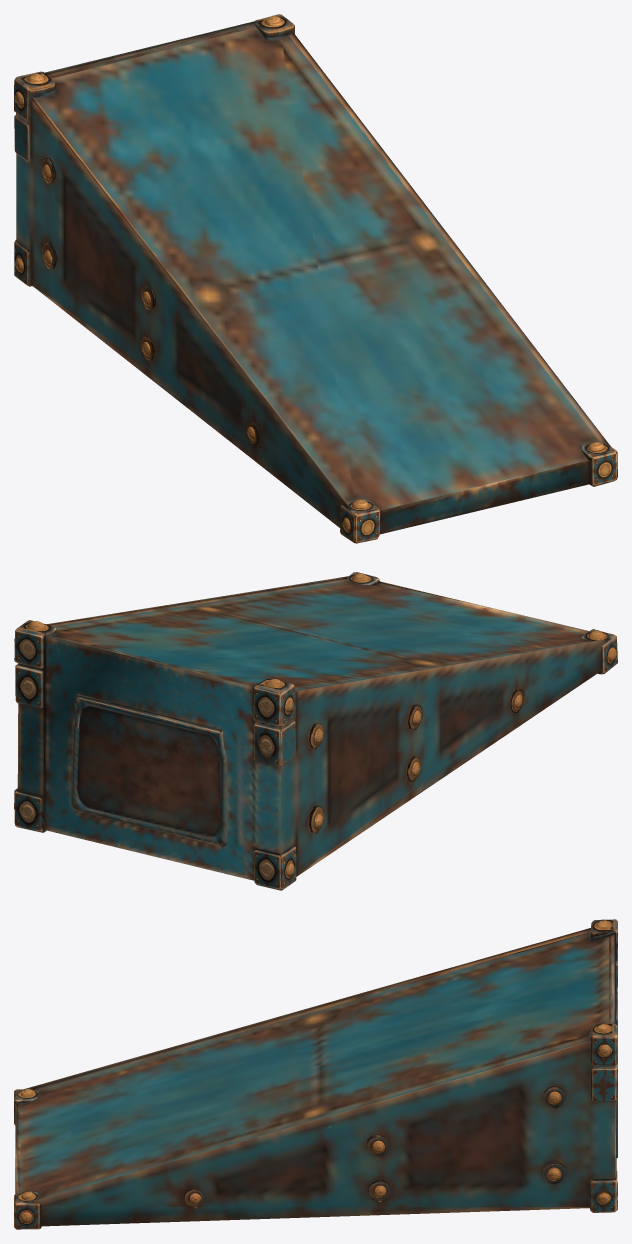
File: metal-wedge.glb
The picture shows the model from 3 angles, top to bottom: view 1: azimuth 30°, elevation 25°; view 2: azimuth 150°, elevation 25°; view 3: azimuth 270°, elevation 25°; orthographic projection. The views are drawn at different scales.
Size of the model in its own units: 0.4757 by 0.3696 by 1.
1 material, 1 textured.
